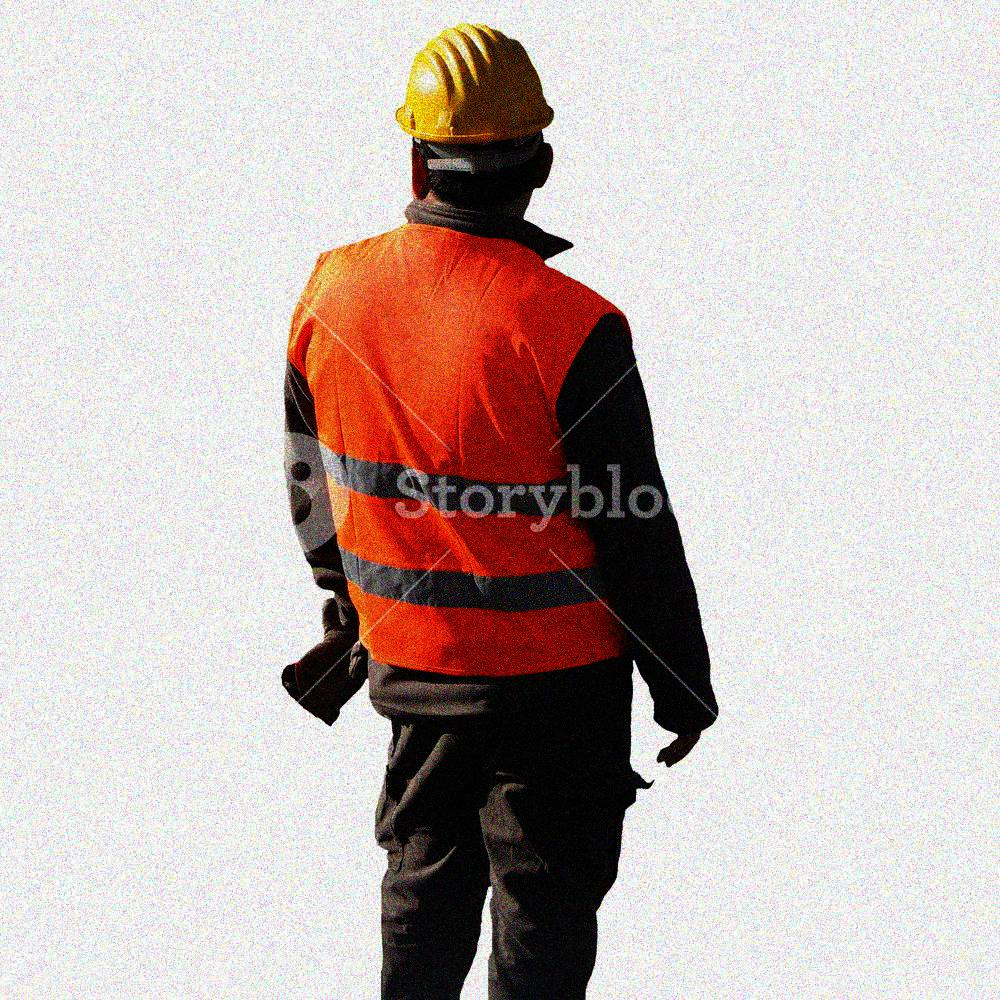helmet: (393, 21, 555, 215)
